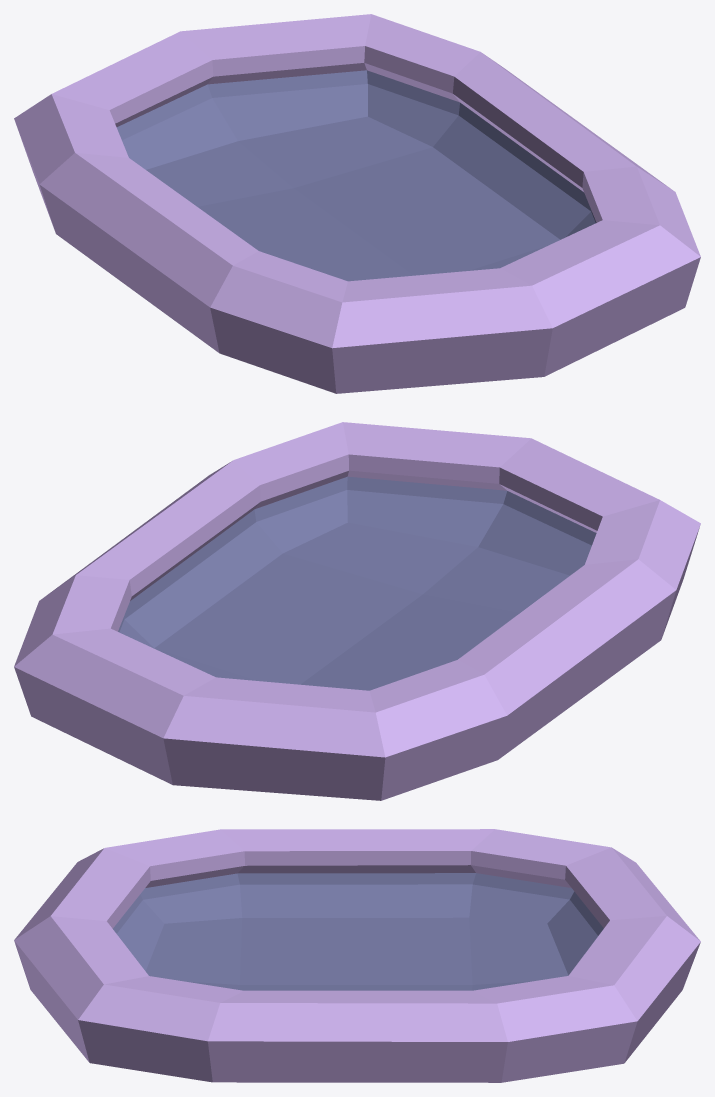
File: DogBed_4.fbx
3 renders of one model, top to bottom at view 1: azimuth 30°, elevation 25°; view 2: azimuth 150°, elevation 25°; view 3: azimuth 270°, elevation 25°, orthographic. The views are drawn at different scales.
Visible parts, largest first — view 1: DogBed_4; view 2: DogBed_4; view 3: DogBed_4.
Boxes of the visible parts, x1=… form: DogBed_4: x1=14, y1=14, x2=700, y2=393; DogBed_4: x1=14, y1=422, x2=700, y2=800; DogBed_4: x1=14, y1=829, x2=700, y2=1082.
Bounding box in the file's own units: 92.08 × 133 × 23.45.
